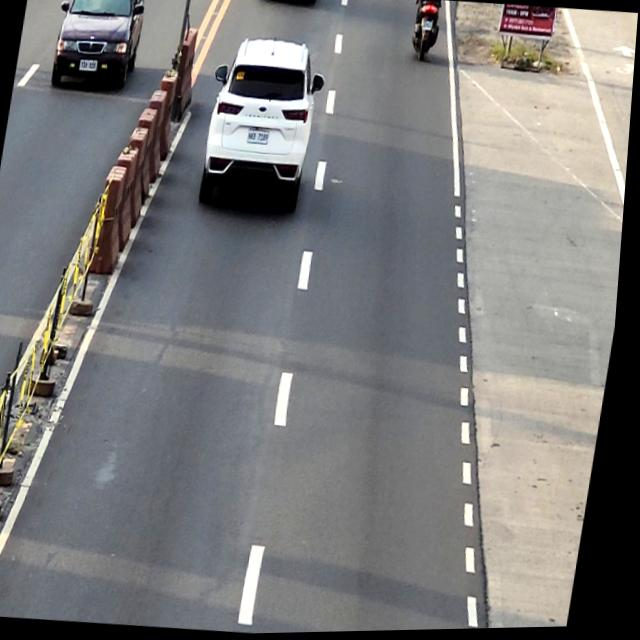Car: (196, 34, 333, 217), (47, 0, 149, 96)
License-Plate: (248, 130, 271, 147), (79, 59, 99, 73), (421, 21, 433, 33)
Motorcycle: (409, 0, 442, 63)
